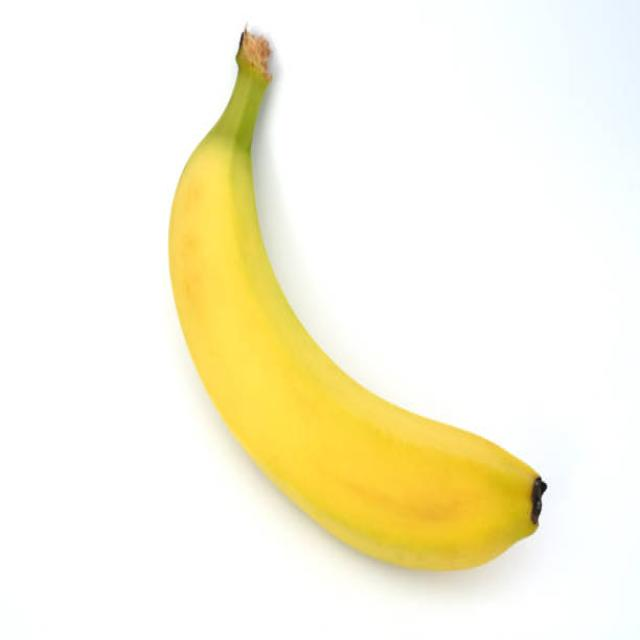banana: (167, 25, 548, 575)
